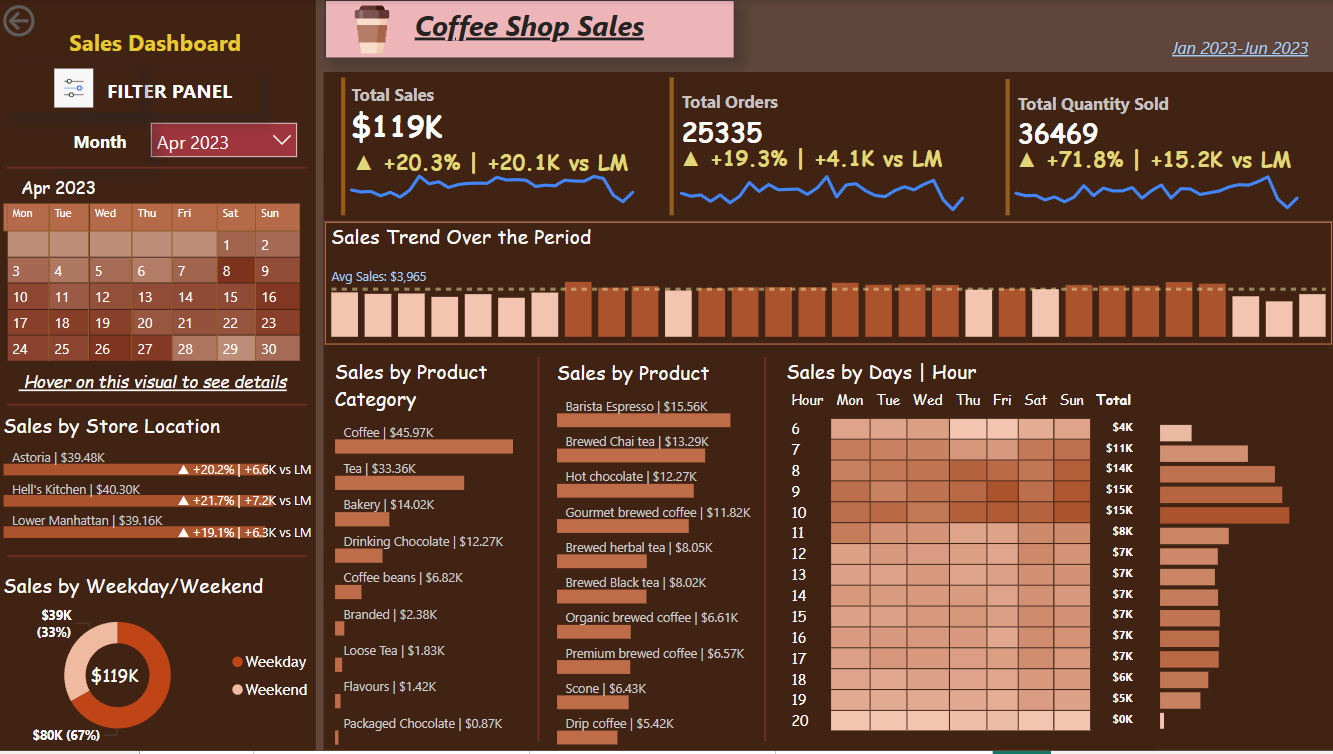

The page's visual inventory and layout, read from the dashboard file:
{"tool":"powerbi","page":{"name":"Page 1","canvas":[1280,720],"ordinal":0},"visuals":[{"type":"textbox","box":[313.5,0,392.6,56.1],"z":0},{"type":"cardVisual","fields":{"Data":["Transactions.MoM Growth & Diff Sales"]},"box":[574.6,159.3,296.6,81.4],"z":1000},{"type":"textbox","box":[311.5,68.8,969,142.9],"z":2000},{"type":"slicer","fields":{"Values":["Date_Table.Month Year"]},"box":[25.4,113.6,193.2,47.5],"z":3000},{"type":"cardVisual","fields":{"Data":["Transactions.Total Sales"]},"box":[323.6,68.8,277.1,142.9],"z":4000},{"type":"cardVisual","fields":{"Data":["Transactions.Total Quantity Sold"]},"box":[960.4,70.6,320.1,141.1],"z":5000},{"type":"textbox","box":[0,0,304.7,719.5],"z":6000},{"type":"slicer","fields":{"Values":["Date_Table.Month Year"]},"box":[136,108.4,160.1,56.8],"z":7000},{"type":"lineChart","fields":{"Category":["Date_Table.Date Hierarchy.Date"],"Y":["Transactions.Total Sales"]},"box":[323.6,148,299.5,65.4],"z":8000},{"type":"cardVisual","fields":{"Data":["Transactions.MoM Growth & Diff Sales"]},"box":[323.6,123.9,313.3,63.7],"z":9000},{"type":"lineChart","fields":{"Category":["Date_Table.Date Hierarchy.Date"],"Y":["Transactions.Total Quantity Sold"]},"box":[960.4,148,299.5,65.4],"z":10000},{"type":"cardVisual","fields":{"Data":["Transactions.Total Orders"]},"box":[638.6,68.8,328.8,142.9],"z":11000},{"type":"lineChart","fields":{"Category":["Date_Table.Date Hierarchy.Date"],"Y":["Transactions.Total Orders"]},"box":[640.3,153.2,299.5,60.2],"z":12000},{"type":"cardVisual","fields":{"Data":["Transactions.MoM Growth & Diff Orders"]},"box":[636.9,118.8,301.2,51.6],"z":13000},{"type":"cardVisual","fields":{"Data":["Transactions.MoM Growth & Diff Quantity"]},"box":[958.7,120.5,299.5,53.4],"z":14000},{"type":"pivotTable","fields":{"Rows":["Date_Table.Week Number"],"Columns":["Date_Table.Day Name"],"Values":["Min(Date_Table.Day Num)"]},"box":[0,189.8,304.9,163.9],"z":15000},{"type":"card","fields":{"Values":["Min(Date_Table.Month Year)"]},"box":[8.6,163.9,97.8,36],"z":16000},{"type":"card","fields":{"Values":["Transactions.Foot Note"]},"box":[0,351.1,296.1,34.4],"z":17000},{"type":"donutChart","fields":{"Y":["Transactions.Total Sales"],"Category":["Date_Table.Weekday/Weekend"]},"box":[0,547.3,311.5,172.1],"z":18000},{"type":"card","fields":{"Values":["Transactions.Total Sales"]},"box":[77.5,621.4,67.1,56.8],"z":19000},{"type":"clusteredBarChart","title":"Sales by Store Location","fields":{"Category":["Transactions.store_location"],"Y":["Transactions.Placeholder","Transactions.Total Sales"]},"box":[8.6,394.2,287.4,127.4],"z":20000},{"type":"textbox","box":[311.5,213.4,969,506],"z":21000},{"type":"columnChart","title":"Sales Trend Over the Period ","fields":{"Category":["Transactions.transaction_date"],"Y":["Transactions.Total Sales"]},"box":[313.3,213.4,965.6,117],"z":22000},{"type":"clusteredBarChart","title":"Sales by Product Category","fields":{"Y":["Transactions.Placeholder","Transactions.Total Sales"],"Category":["Transactions.product_category"]},"box":[318.4,342.5,225.5,376.9],"z":23000},{"type":"clusteredBarChart","title":"Sales by Product Category","fields":{"Y":["Transactions.Placeholder","Transactions.Total Sales"],"Category":["Transactions.product_type"]},"box":[530.1,344.2,220.3,375.2],"z":24000},{"type":"pivotTable","title":"Sales by Days | Hour","fields":{"Rows":["Transactions.Hour"],"Columns":["Date_Table.Day Name"],"Values":["Transactions.Total Sales"]},"box":[750.5,342.5,358,376.9],"z":25000},{"type":"actionButton","box":[0,0,100,40],"z":26000},{"type":"barChart","fields":{"Category":["Transactions.Hour"],"Y":["Transactions.Total Sales"]},"box":[1108.5,394.2,170.4,309.8],"z":27000},{"type":"textbox","box":[49.9,118.8,94.7,39.6],"z":28000},{"type":"textbox","box":[77.5,68.8,173.8,39.6],"z":29000},{"type":"shape","box":[8.6,141.1,287.4,39.6],"z":30000},{"type":"shape","box":[8.6,368.3,287.4,39.6],"z":31000},{"type":"shape","box":[8.6,512.9,287.4,39.6],"z":32000},{"type":"shape","box":[506,342.5,24.1,368.3],"z":33000},{"type":"shape","box":[722.9,342.5,24.1,368.3],"z":34000},{"type":"textbox","box":[63.7,20.7,187.6,49.9],"z":35000},{"type":"image","box":[323.6,0,70.5,56.1],"z":36000},{"type":"image","box":[8.6,60.4,128,47.5],"z":36001},{"type":"textbox","box":[1120.3,28.8,158.2,40.3],"z":36004}]}

Visuals, with their boxes in screenshot pixels (x1, y1, x2, y2), scaled from the page's 1280x720 canvas onto the 1333x754 screenshot:
textbox: <box>326,0,735,59</box>
cardVisual - Transactions.MoM Growth & Diff Sales: <box>598,167,907,252</box>
textbox: <box>324,72,1332,222</box>
slicer - Date_Table.Month Year: <box>26,119,228,169</box>
cardVisual - Transactions.Total Sales: <box>337,72,626,222</box>
cardVisual - Transactions.Total Quantity Sold: <box>1000,74,1332,222</box>
textbox: <box>0,0,317,753</box>
slicer - Date_Table.Month Year: <box>142,114,308,173</box>
lineChart - Date_Table.Date Hierarchy.Date x Transactions.Total Sales: <box>337,155,649,223</box>
cardVisual - Transactions.MoM Growth & Diff Sales: <box>337,130,663,196</box>
lineChart - Date_Table.Date Hierarchy.Date x Transactions.Total Quantity Sold: <box>1000,155,1312,223</box>
cardVisual - Transactions.Total Orders: <box>665,72,1007,222</box>
lineChart - Date_Table.Date Hierarchy.Date x Transactions.Total Orders: <box>667,160,979,223</box>
cardVisual - Transactions.MoM Growth & Diff Orders: <box>663,124,977,178</box>
cardVisual - Transactions.MoM Growth & Diff Quantity: <box>998,126,1310,182</box>
pivotTable - Date_Table.Week Number x Date_Table.Day Name: <box>0,199,318,370</box>
card - Min(Date_Table.Month Year): <box>9,172,111,209</box>
card - Transactions.Foot Note: <box>0,368,308,404</box>
donutChart - Transactions.Total Sales x Date_Table.Weekday/Weekend: <box>0,573,324,753</box>
card - Transactions.Total Sales: <box>81,651,151,710</box>
"Sales by Store Location" clusteredBarChart: <box>9,413,308,546</box>
textbox: <box>324,223,1332,753</box>
"Sales Trend Over the Period " columnChart: <box>326,223,1332,346</box>
"Sales by Product Category" clusteredBarChart: <box>332,359,566,753</box>
"Sales by Product Category" clusteredBarChart: <box>552,360,781,753</box>
"Sales by Days | Hour" pivotTable: <box>782,359,1154,753</box>
actionButton: <box>0,0,104,42</box>
barChart - Transactions.Hour x Transactions.Total Sales: <box>1154,413,1332,737</box>
textbox: <box>52,124,151,166</box>
textbox: <box>81,72,262,114</box>
shape: <box>9,148,308,189</box>
shape: <box>9,386,308,427</box>
shape: <box>9,537,308,579</box>
shape: <box>527,359,552,744</box>
shape: <box>753,359,778,744</box>
textbox: <box>66,22,262,74</box>
image: <box>337,0,410,59</box>
image: <box>9,63,142,113</box>
textbox: <box>1167,30,1331,72</box>
